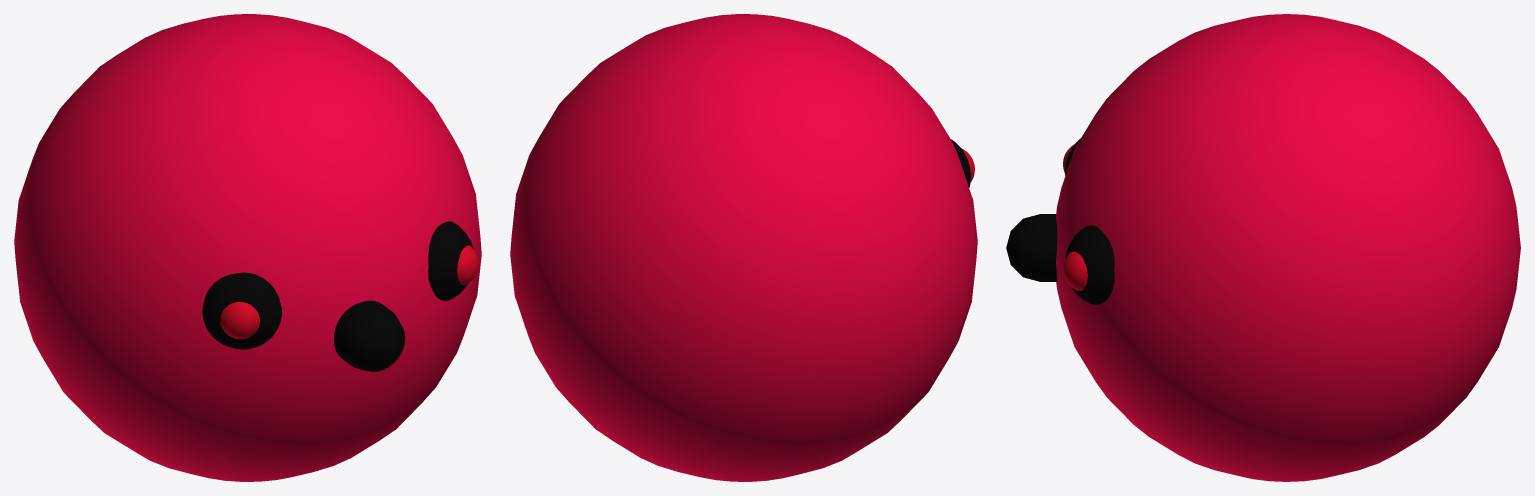
The model's file is enemyblob.glb.
3 renders of one model, left to right at view 1: azimuth 30°, elevation 25°; view 2: azimuth 150°, elevation 25°; view 3: azimuth 270°, elevation 25°, orthographic.
Visible parts, largest first — view 1: Body, RightEye, Cylinder, RightPupil; view 2: Body; view 3: Body, Cylinder, RightEye, RightPupil.
Part boxes in pixels (x1=…): Body: x1=14, y1=14, x2=481, y2=481; RightEye: x1=202, y1=221, x2=473, y2=349; Cylinder: x1=334, y1=300, x2=405, y2=371; RightPupil: x1=220, y1=245, x2=478, y2=339; Body: x1=510, y1=14, x2=977, y2=481; Body: x1=1056, y1=14, x2=1520, y2=481; Cylinder: x1=1006, y1=214, x2=1057, y2=281; RightEye: x1=1064, y1=138, x2=1114, y2=304; RightPupil: x1=1063, y1=144, x2=1087, y2=290.
Bounding box in the file's own units: 2 × 2 × 2.2.
